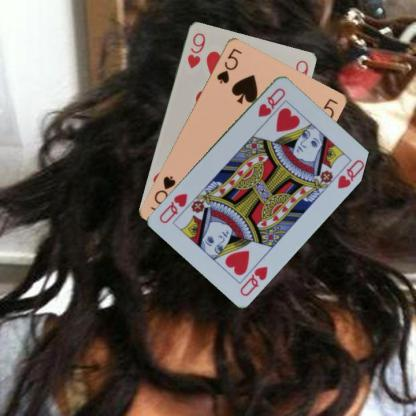5s: (214, 45, 243, 85)
9h: (184, 29, 207, 70)
Qh: (237, 263, 269, 297), (256, 85, 286, 118)
